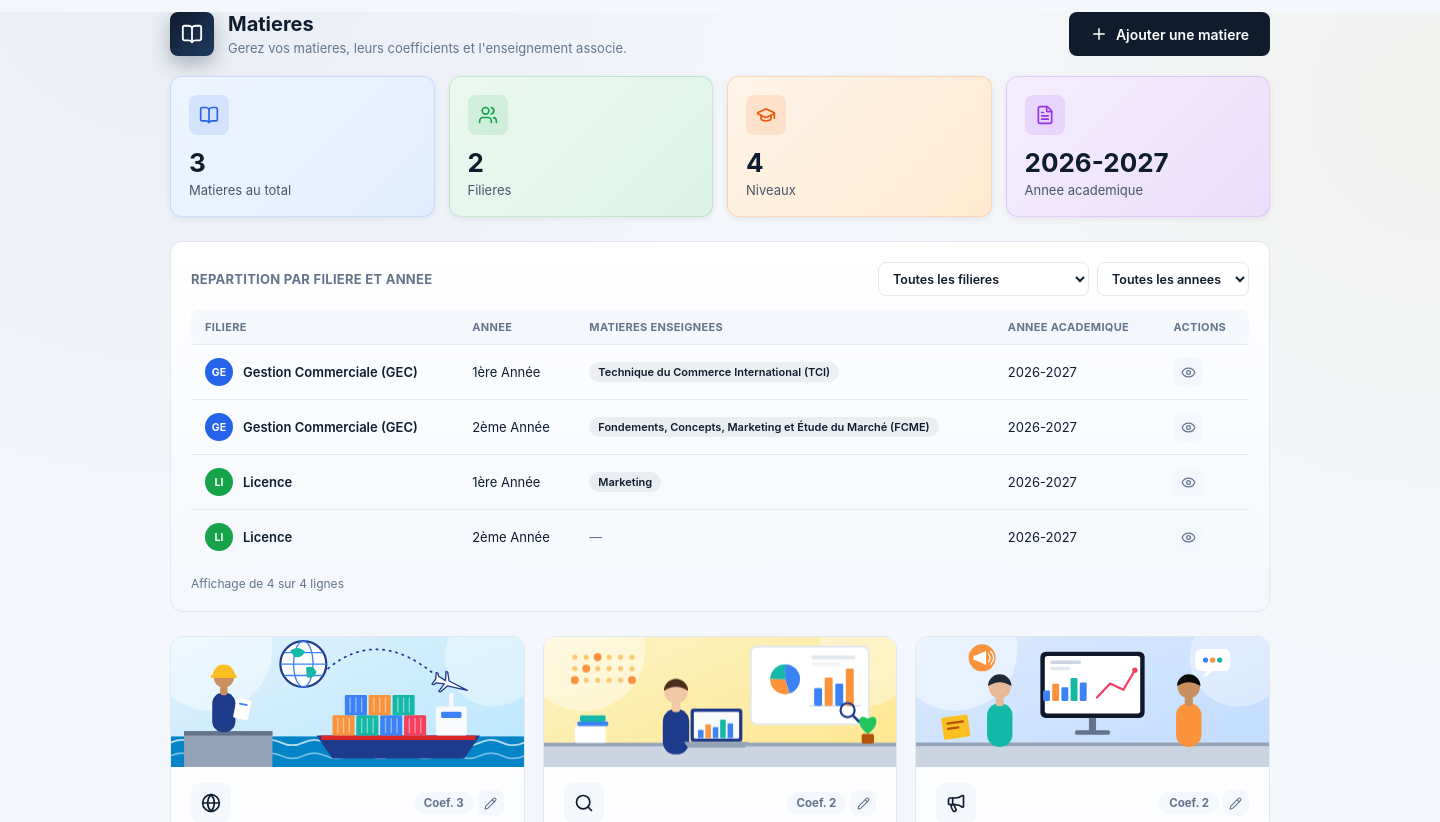
Scenario: Subjects page — real data, no fabricated numbers › filters the table rows to the selected filière
expect the number of rows is 5: met, box [191,310,1249,344]; [191,344,1249,400]; [191,400,1249,454]; [191,454,1249,510]; [191,510,1249,564]
Select "Gestion Commerciale (GEC)" in the 1st dropdown showing "Toutes les filieres": (984, 279) [878,262,1089,296]
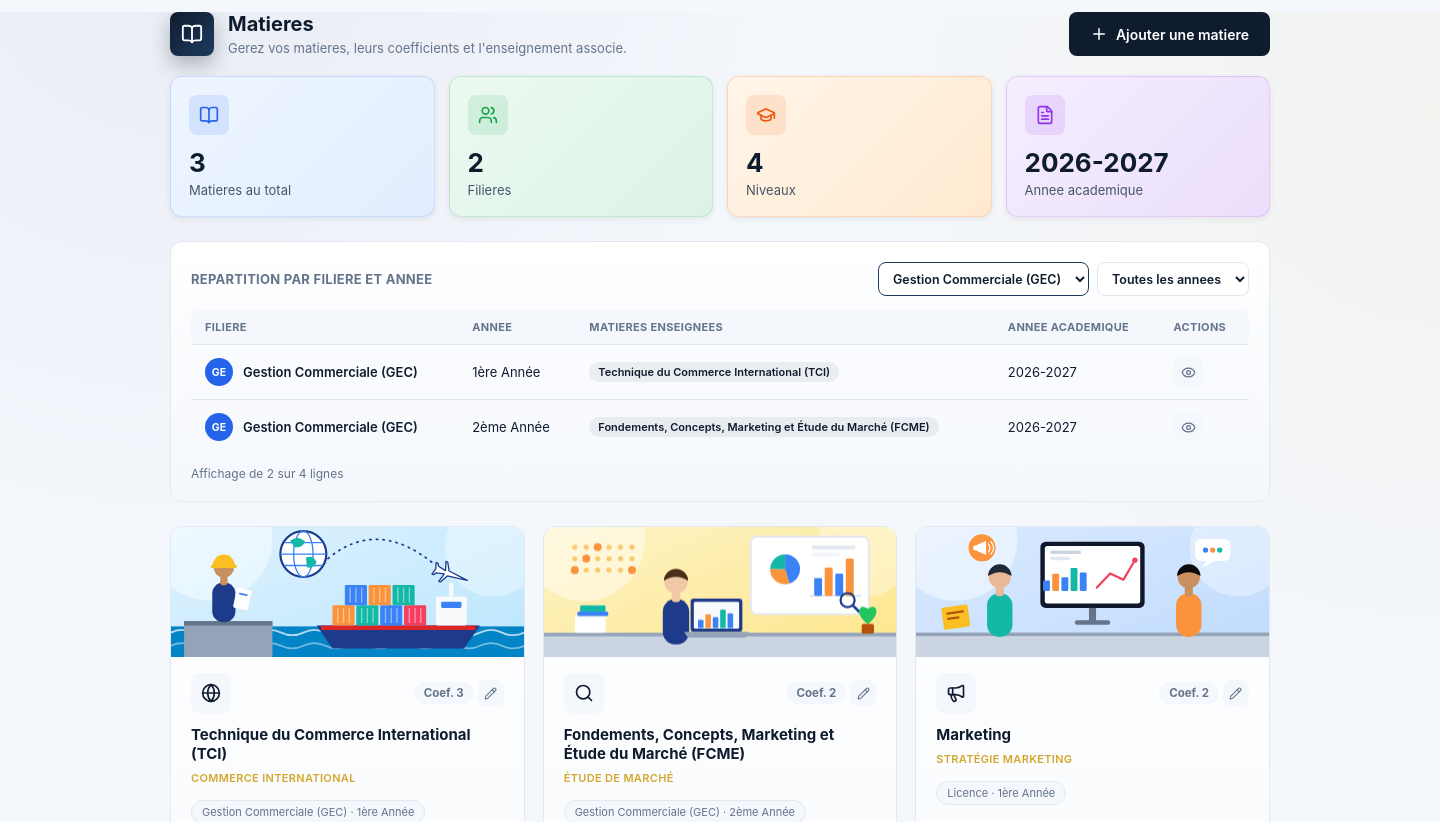
expect the number of rows is 3: met, box [191,310,1249,344]; [191,344,1249,400]; [191,400,1249,454]
expect the text "Gestion Commerciale (GEC)" is shown 2 times: met, box [205,358,444,386]; [205,413,444,441]
